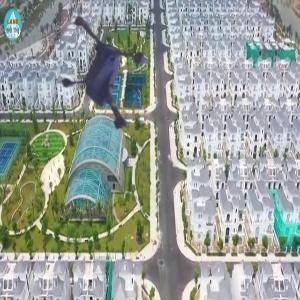drone: (50, 21, 183, 154)
